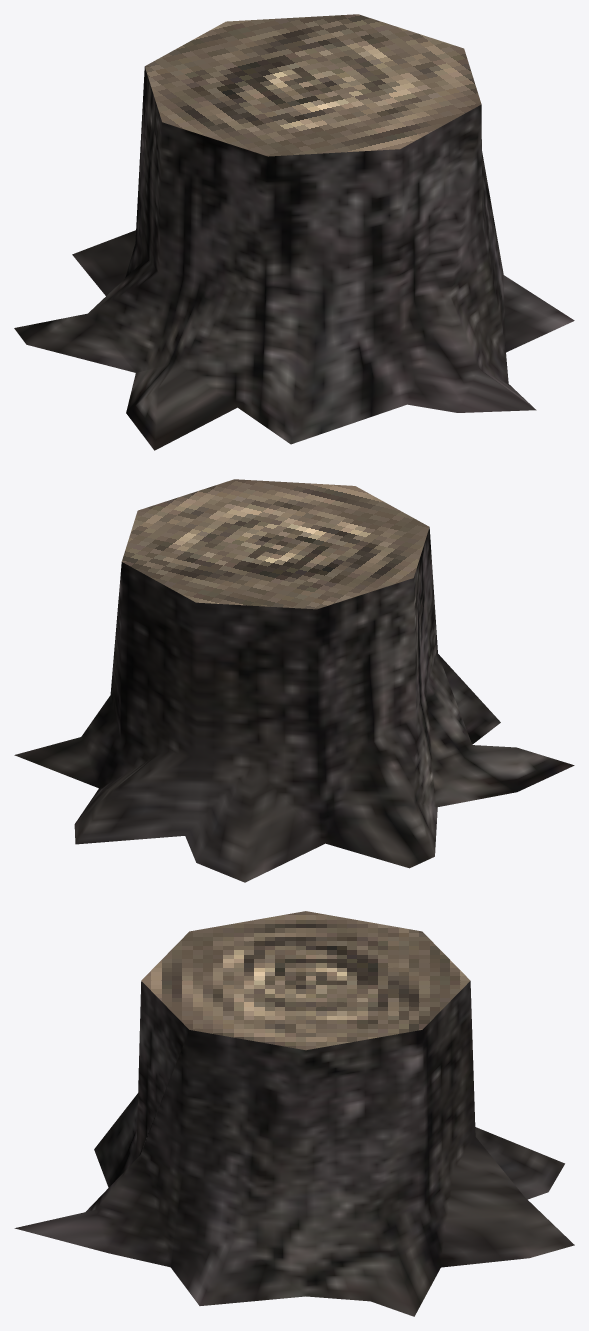
Rendered from Tree07.glb.
3 views of the same model, one above another, from view 1: azimuth 30°, elevation 25°; view 2: azimuth 150°, elevation 25°; view 3: azimuth 270°, elevation 25° (orthographic). The views are drawn at different scales.
Visible parts, largest first — view 1: Tree07; view 2: Tree07; view 3: Tree07.
Boxes of the visible parts, x1,y1,x2,y2 form: Tree07: (14, 14, 574, 450); Tree07: (14, 479, 574, 882); Tree07: (14, 911, 574, 1316).
Bounding box in the file's own units: 1.42 × 0.7052 × 1.55.
2 materials, 2 textured.
